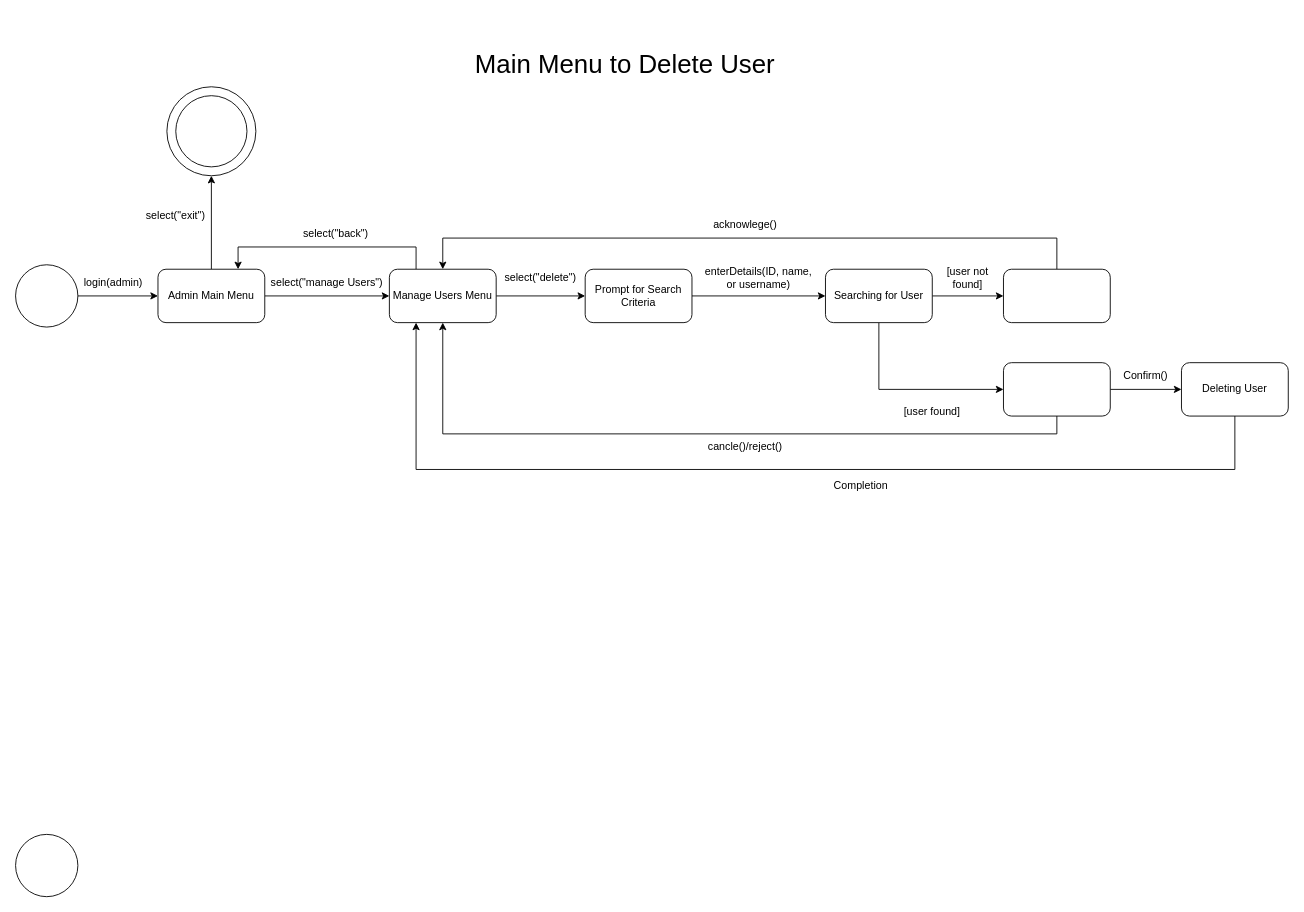
The diagram is 1304 pixels wide and 912 high, and some of its shapes have lost their labels. The centre of each missing label's shape, as x and y in pixels:
Awaiting Deletion Confirmation: (1056,389)
Display Error Message: (1056,295)
